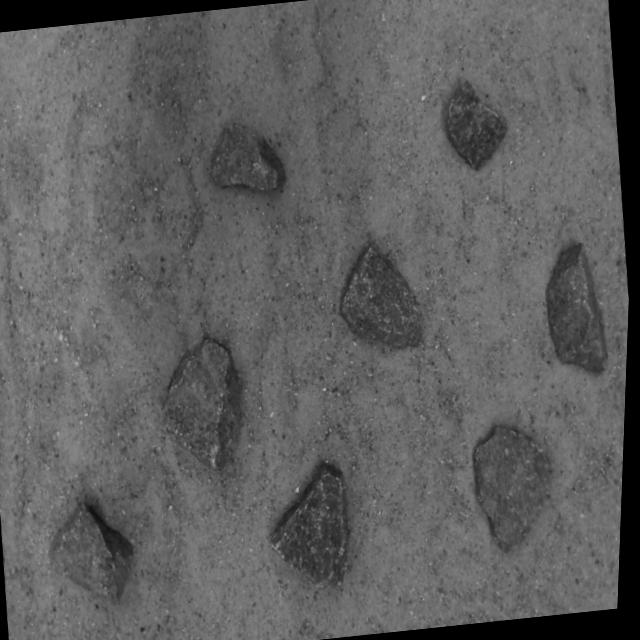rock: (165, 340, 243, 472), (477, 427, 553, 552), (275, 465, 352, 587), (52, 505, 136, 604), (343, 248, 424, 346), (548, 244, 610, 372), (447, 81, 507, 169), (213, 123, 286, 190)
